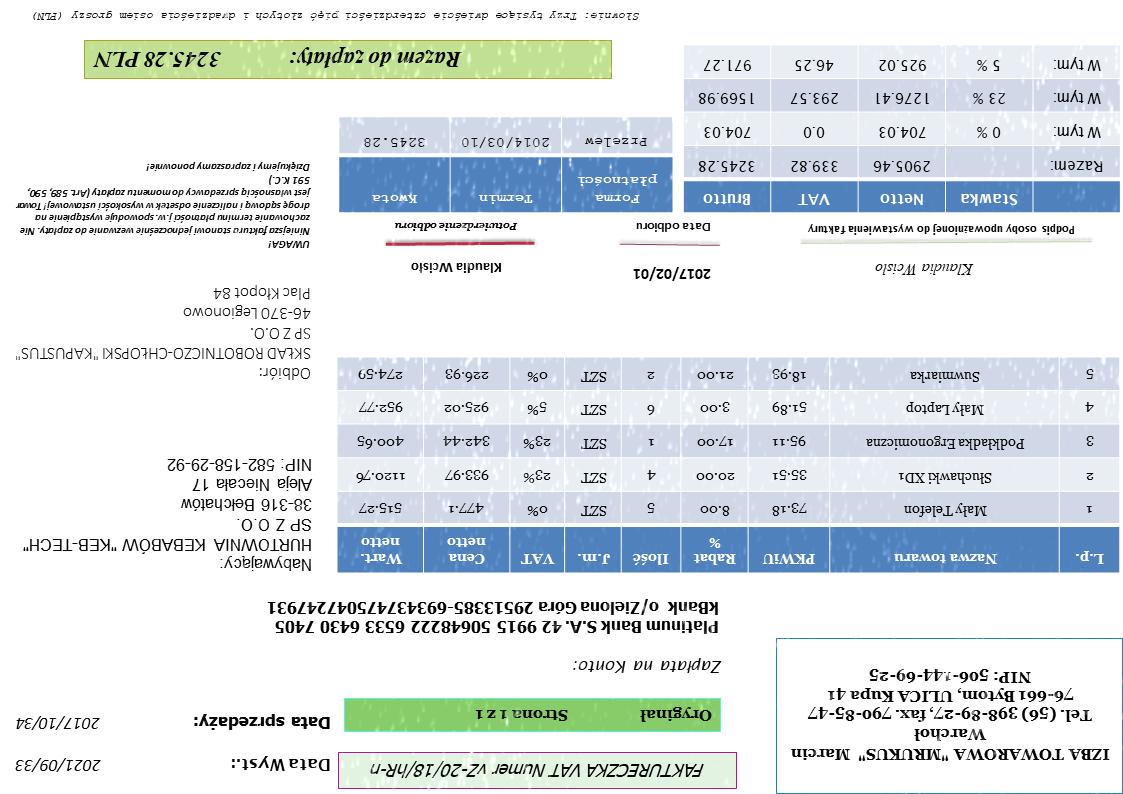Table: (336, 355, 1121, 575), (684, 43, 1122, 214), (337, 115, 675, 215)
TextBox: (19, 455, 314, 575), (790, 664, 1113, 766), (12, 282, 313, 383), (12, 158, 314, 253), (266, 598, 723, 637), (92, 44, 464, 72), (29, 9, 643, 24), (366, 759, 708, 782), (473, 704, 715, 728), (804, 221, 1077, 238), (570, 655, 724, 679), (190, 710, 335, 735), (228, 753, 332, 776), (873, 260, 977, 281), (14, 754, 104, 777), (392, 219, 520, 235), (14, 714, 103, 735), (630, 264, 715, 284), (410, 259, 506, 276), (636, 220, 714, 235)
